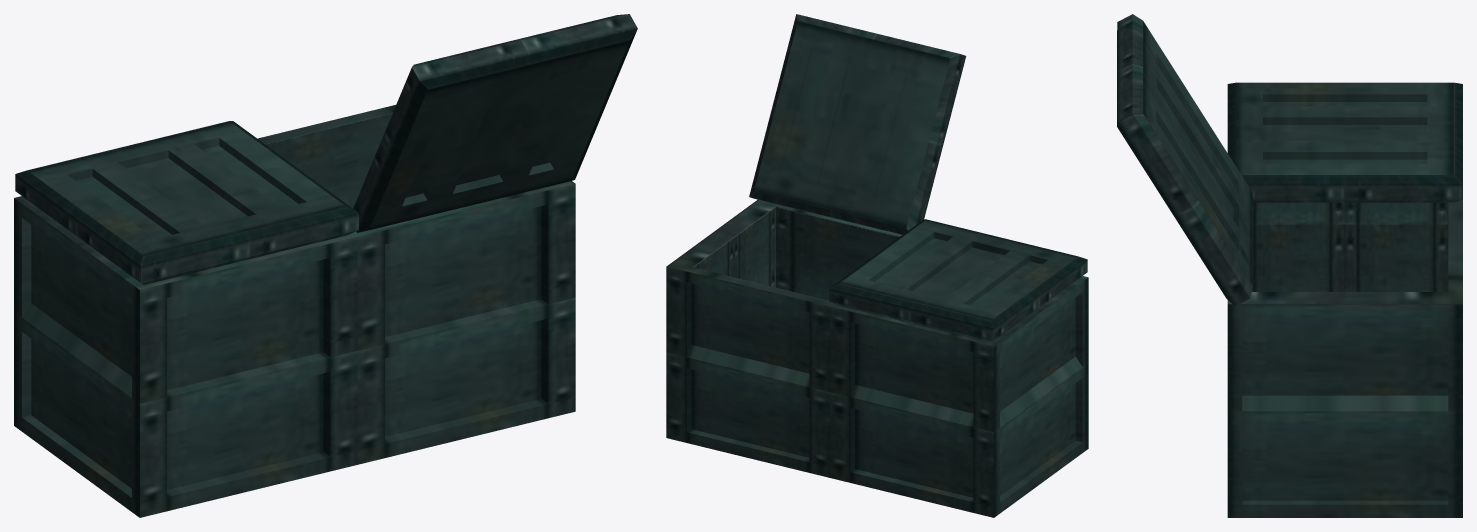
Rendered from container.fbx.
3 renders of one model, left to right at view 1: azimuth 30°, elevation 25°; view 2: azimuth 150°, elevation 25°; view 3: azimuth 270°, elevation 25°, orthographic. The views are drawn at different scales.
Visible parts, largest first — view 1: Cube, Cube.002, Cube.001; view 2: Cube, Cube.002, Cube.001; view 3: Cube, Cube.001, Cube.002.
Part boxes in pixels (<box>): Cube: <box>14,105,575,517</box>; Cube.002: <box>353,14,637,232</box>; Cube.001: <box>15,121,358,284</box>; Cube: <box>666,200,1088,517</box>; Cube.002: <box>749,14,966,234</box>; Cube.001: <box>829,219,1087,342</box>; Cube: <box>1227,199,1462,517</box>; Cube.001: <box>1227,82,1462,202</box>; Cube.002: <box>1117,14,1252,306</box>.
Size of the model in its own units: 403 by 381 by 294.
Materials: 3 (3 with a texture image).
